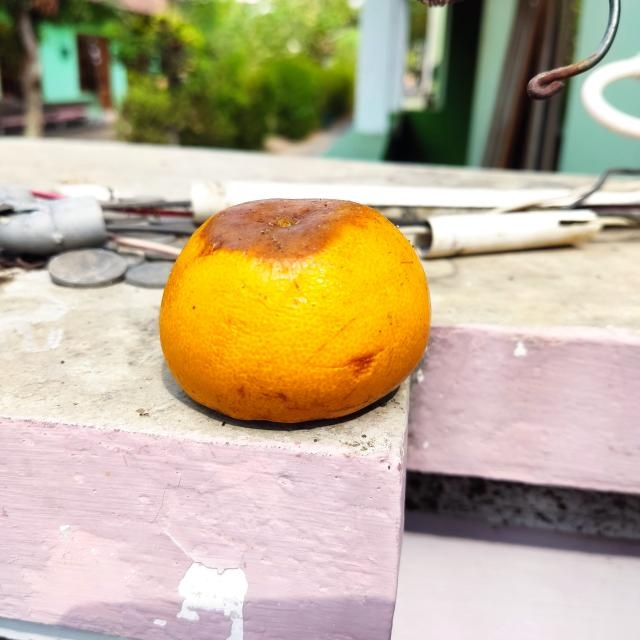agrume: (155, 194, 433, 425)
